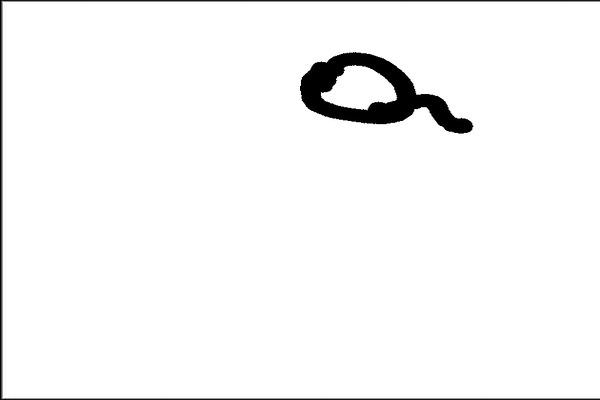Q: (287, 44, 473, 140)
